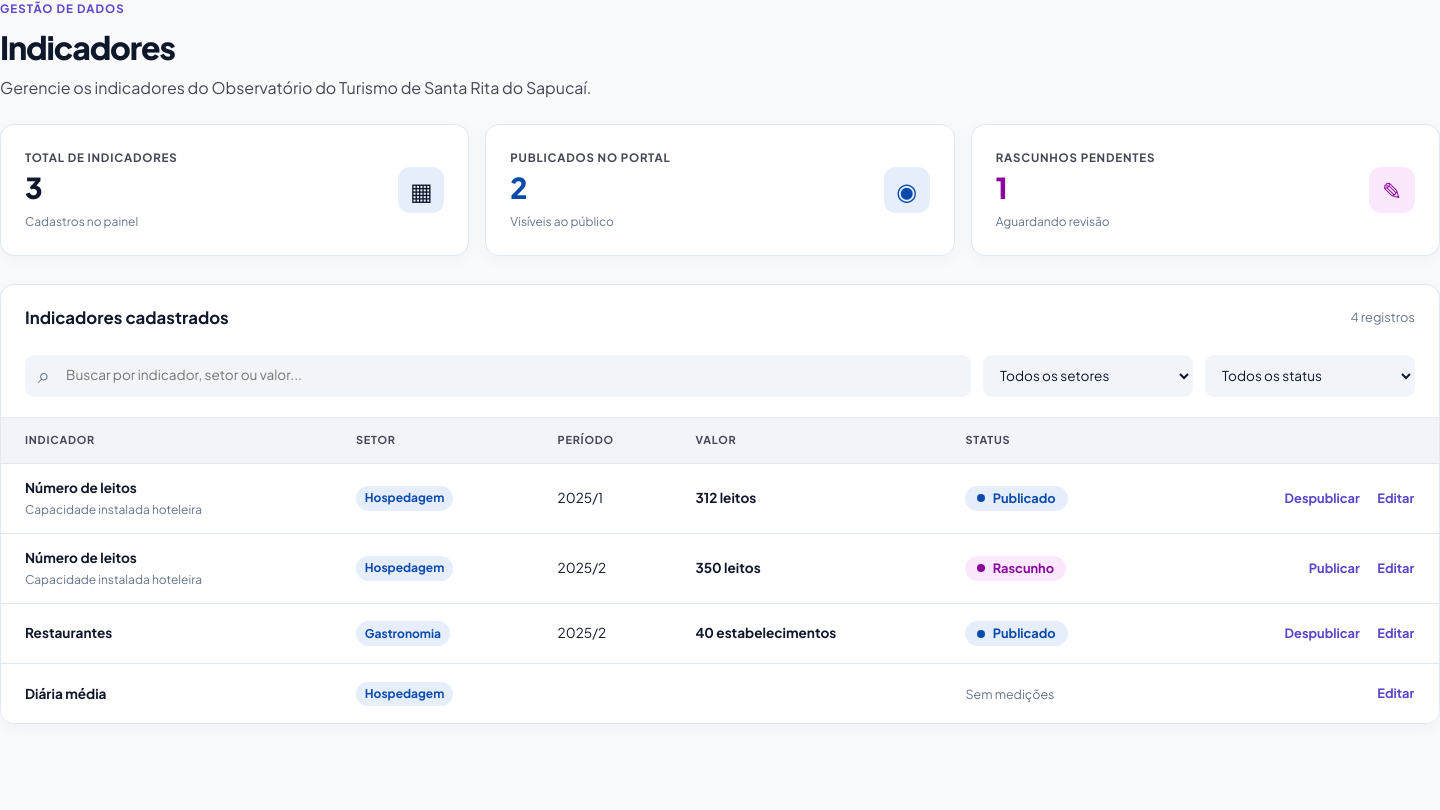
Test case: AdminPage › publicação › tira a mensagem ao usar Filtrar por status
Click the button with aria-label "Publicar Número de leitos, 2025/2" at (1334, 568), box [1300,553,1368,584]
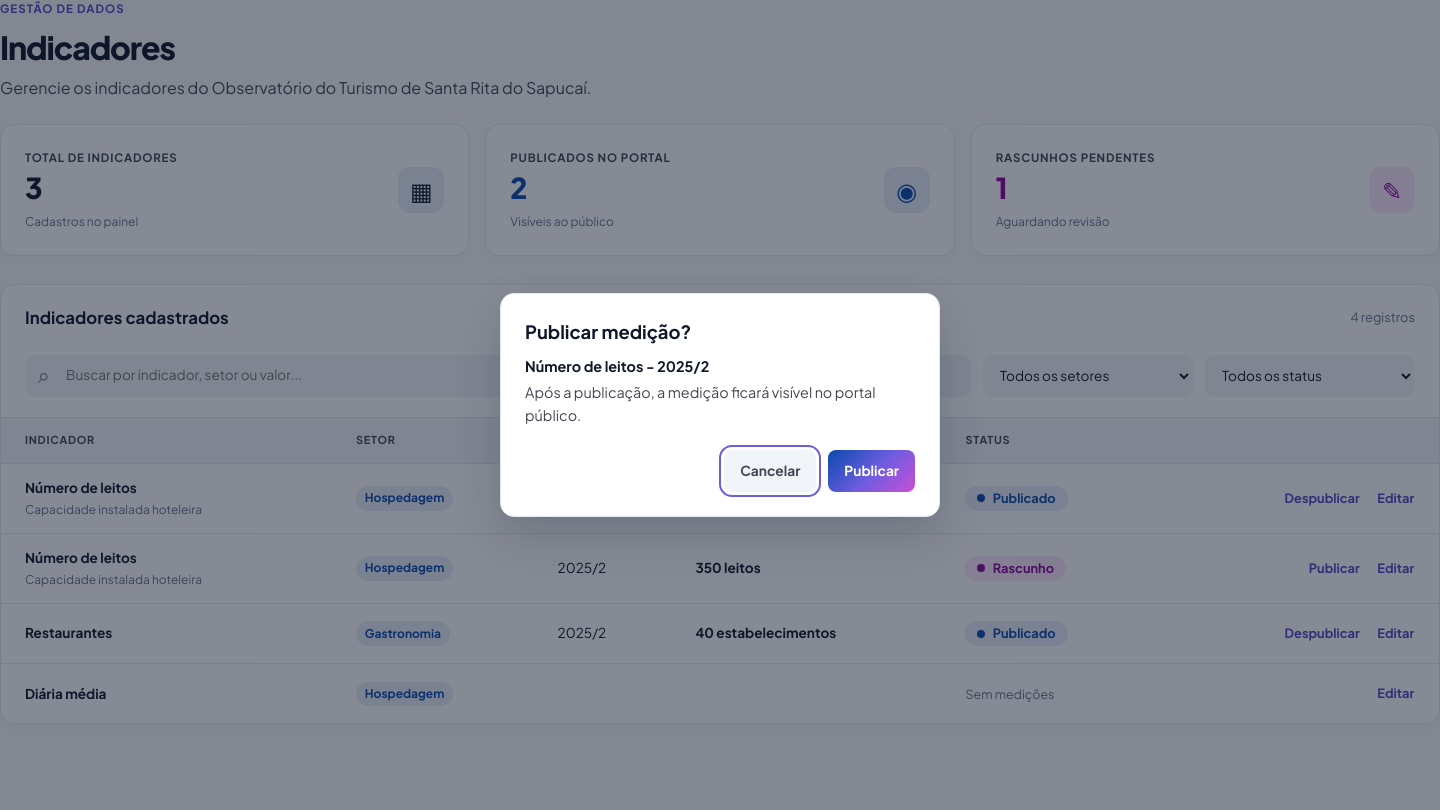
Click the button "Publicar" at (872, 471), box [828,450,915,492]
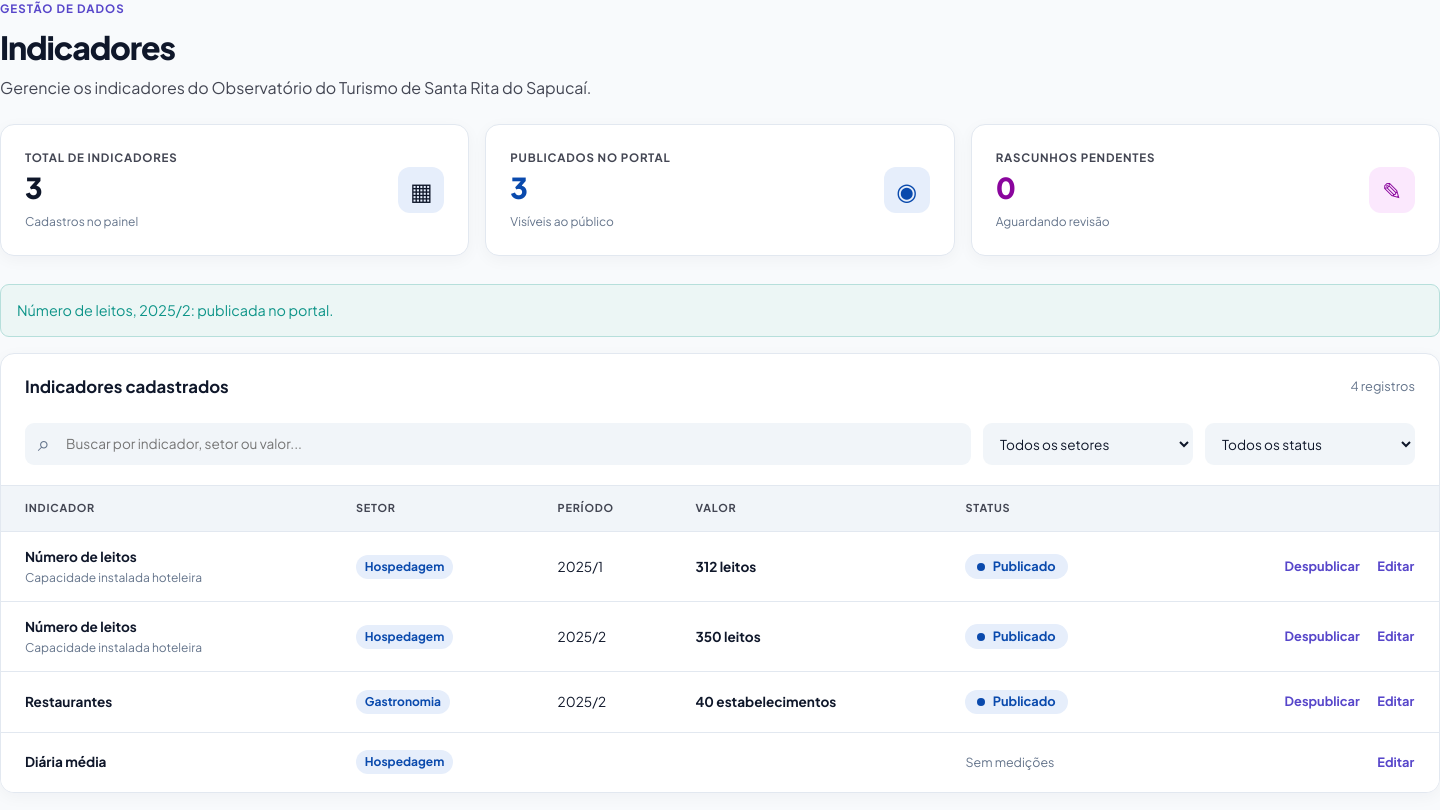
Now the text "Número de leitos, 2025/2: publicada no portal." is shown, box [0,284,1439,337]
Select "Publicado" in the dropdown named "Filtrar por status" at (1310, 444), box [1205,423,1415,465]
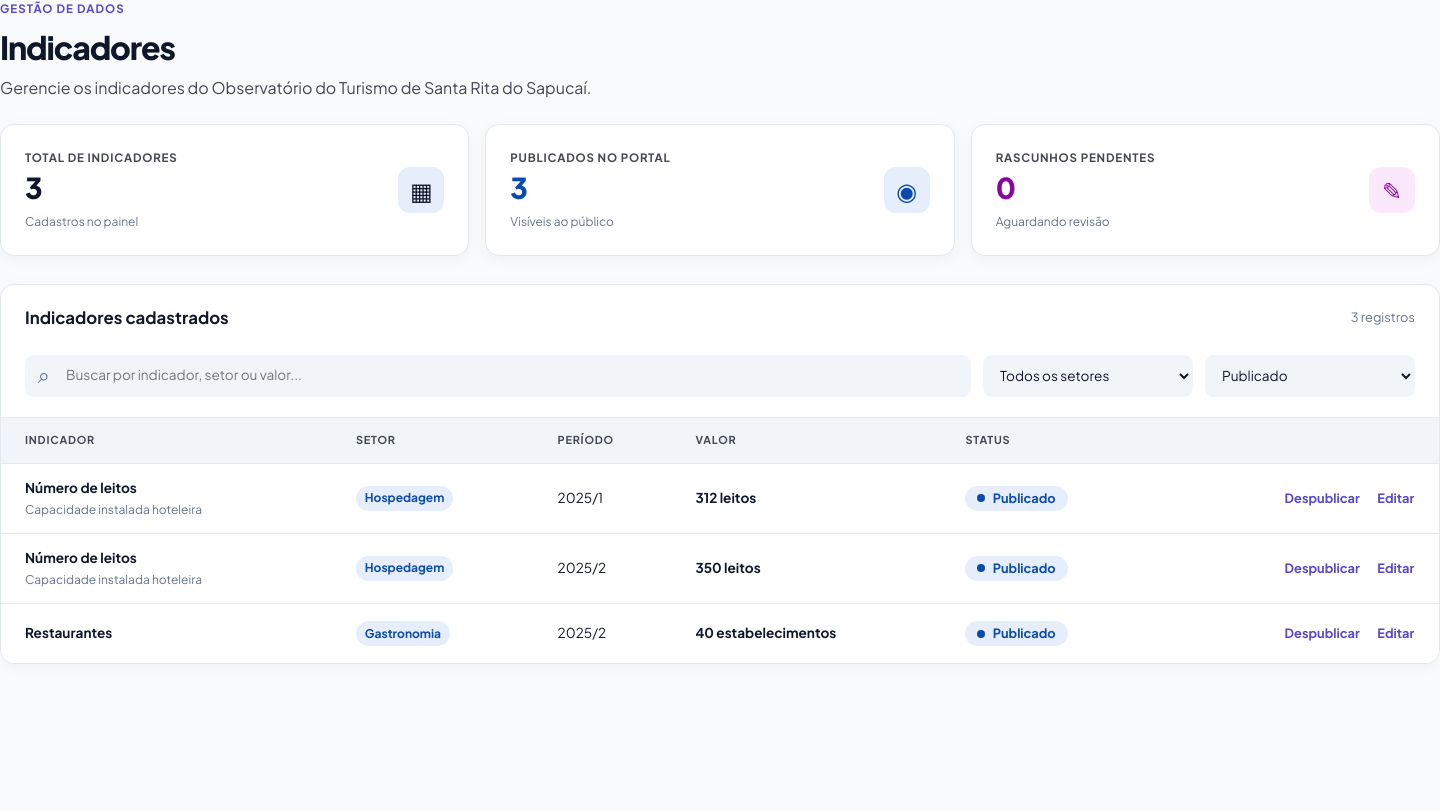
Now the text "Número de leitos, 2025/2: publicada no portal." is gone
